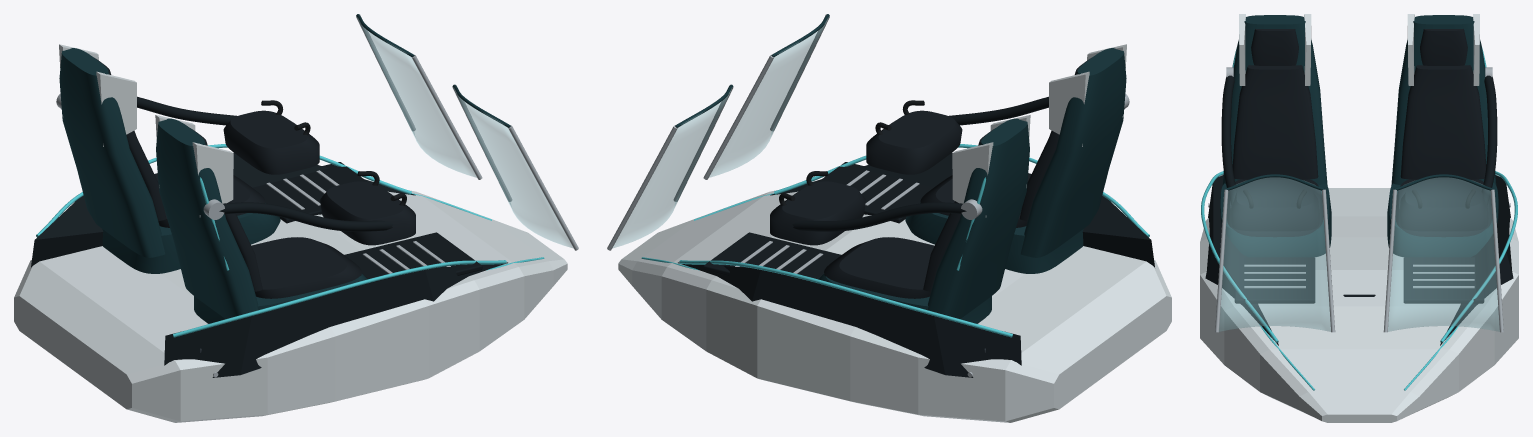
Rendered from train_car_runtime.glb.
3 views of the same model, side by side, from view 1: azimuth 30°, elevation 25°; view 2: azimuth 150°, elevation 25°; view 3: azimuth 270°, elevation 25° (orthographic). The views are drawn at different scales.
Visible parts, largest first — view 1: VCTrain4_SM_TrainCar_Assembled; view 2: VCTrain4_SM_TrainCar_Assembled; view 3: VCTrain4_SM_TrainCar_Assembled.
Boxes of the visible parts, x1=… form: VCTrain4_SM_TrainCar_Assembled: x1=14, y1=14, x2=578, y2=422; VCTrain4_SM_TrainCar_Assembled: x1=607, y1=14, x2=1171, y2=422; VCTrain4_SM_TrainCar_Assembled: x1=1200, y1=14, x2=1518, y2=422.
Bounding box in the file's own units: 2.55 × 1.41 × 1.7.
